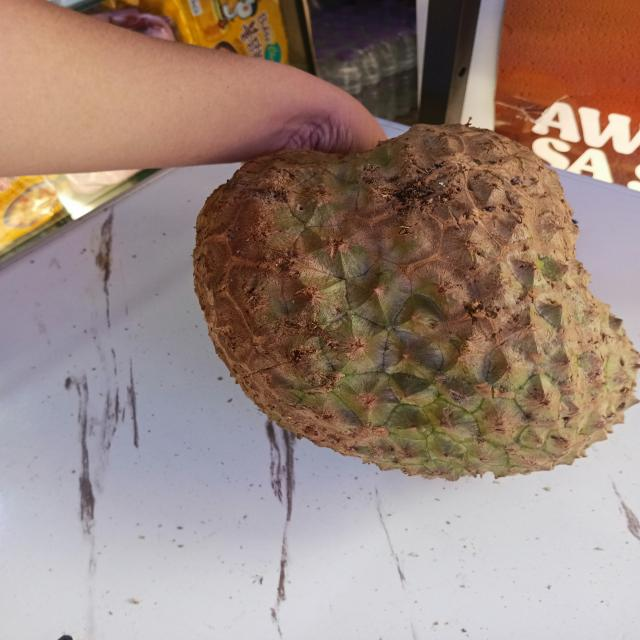mature: (160, 107, 640, 499)
